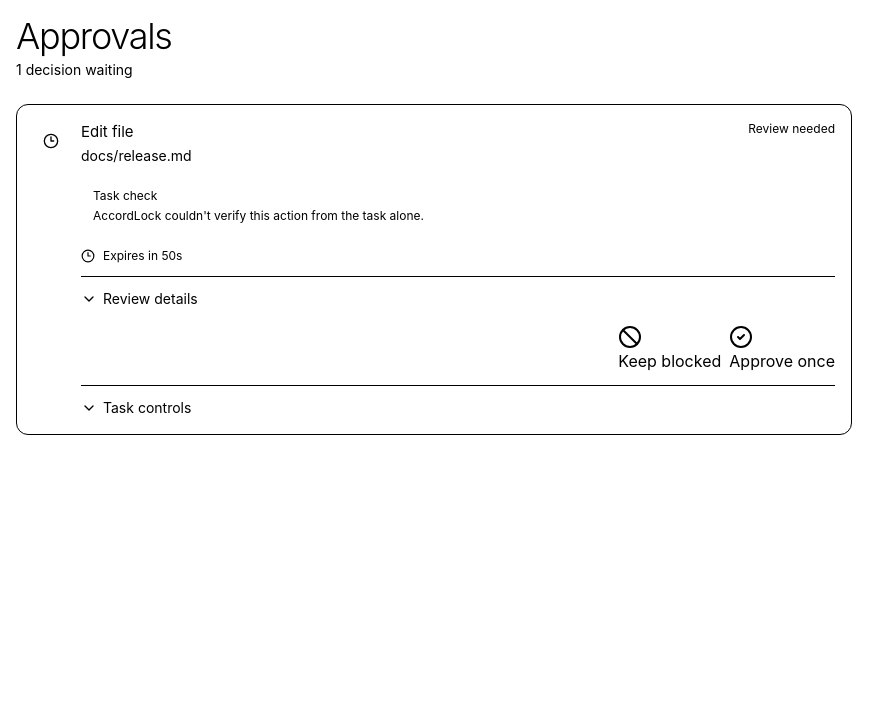
ApprovalCenter › shows one compact decision with exact details behind disclosure
The width and height of the screenshot is (869, 721).
Expected: the heading "Approvals" is shown, left=16, top=16, right=172, bottom=56
Expected: the text "1 decision waiting" is shown, left=16, top=61, right=133, bottom=78
Click the heading "Review details" at (139, 298), box left=81, top=290, right=198, bottom=306
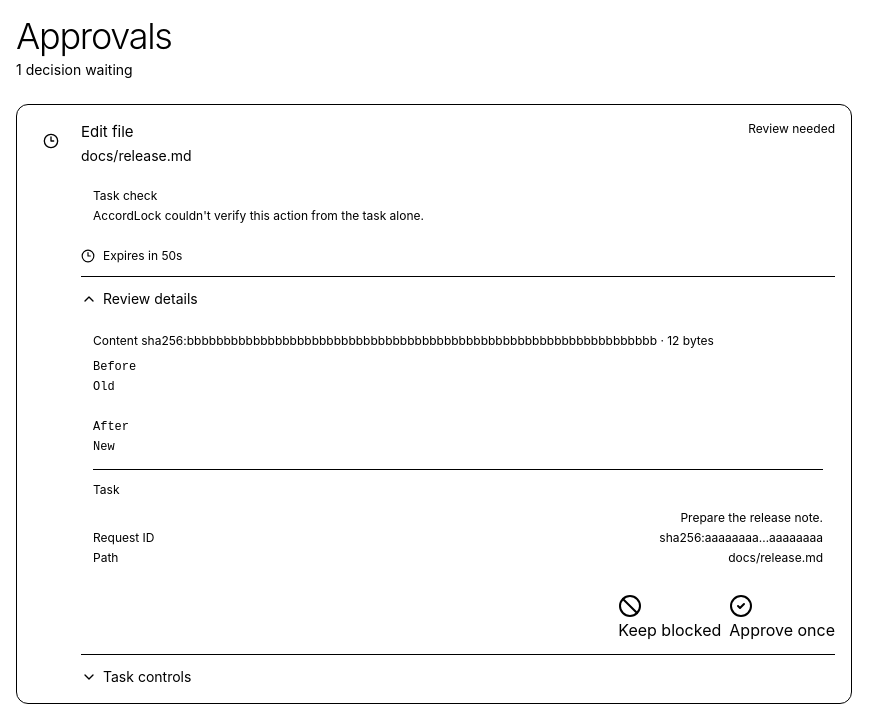
Expected: the text "Prepare the release note." is shown, left=680, top=510, right=823, bottom=524
Expected: the text "Before Old After New" is shown, left=93, top=360, right=136, bottom=454
